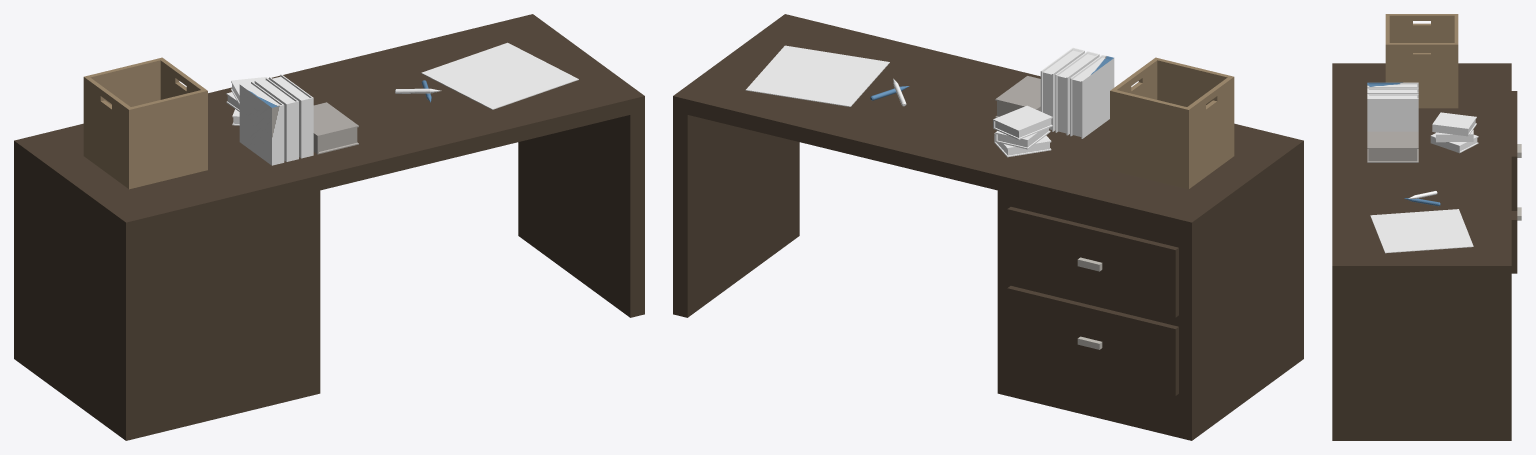
The model's file is Desk 1.fbx.
3 renders of one model, left to right at view 1: azimuth 30°, elevation 25°; view 2: azimuth 150°, elevation 25°; view 3: azimuth 270°, elevation 25°, orthographic. The views are drawn at different scales.
Visible parts, largest first — view 1: Box; view 2: Box; view 3: Box.
Boxes of the visible parts, x1,y1,x2,y2 form: Box: (14, 14, 644, 440); Box: (673, 14, 1303, 440); Box: (1332, 14, 1521, 440).
Size of the model in its own units: 1069 by 586 by 422.
